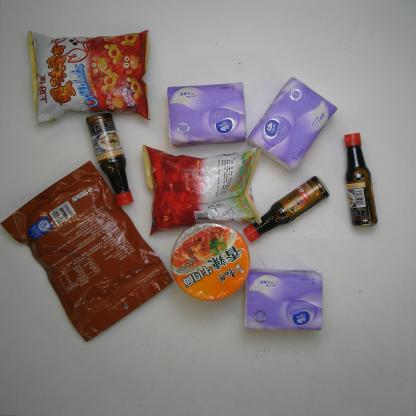Dried Food: (0, 160, 175, 343)
Instant Noodles: (170, 222, 251, 302)
Puffed Food: (27, 28, 151, 128), (141, 144, 264, 237)
Seasoner: (242, 174, 330, 244), (86, 110, 134, 207), (344, 132, 378, 229)
Tissue: (246, 75, 338, 173), (167, 82, 248, 148), (242, 268, 324, 331)
